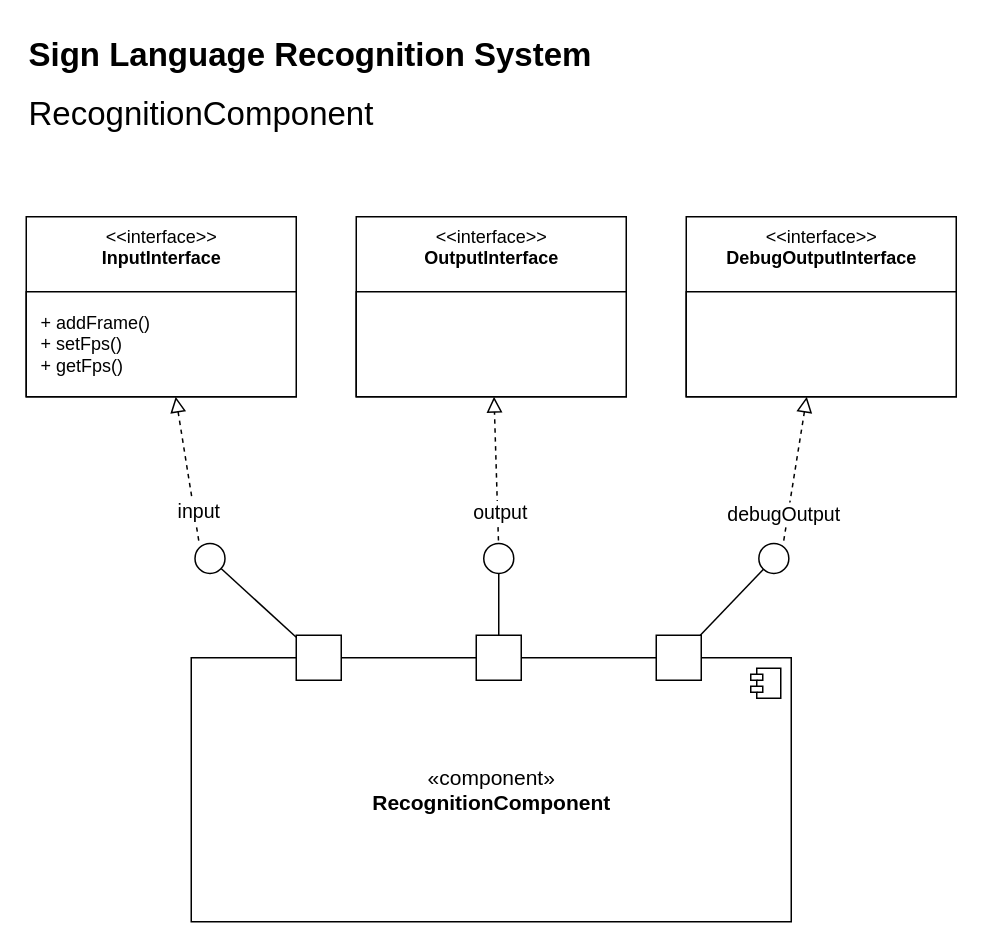
The diagram is 983 pixels wide and 948 high, and some of its shapes have lost their labels. The centre of each missing label's shape, as x and y in pixels:
<<signals>> + onFrame: [820,343]
<<signals>> + onRecognize: [490,343]
